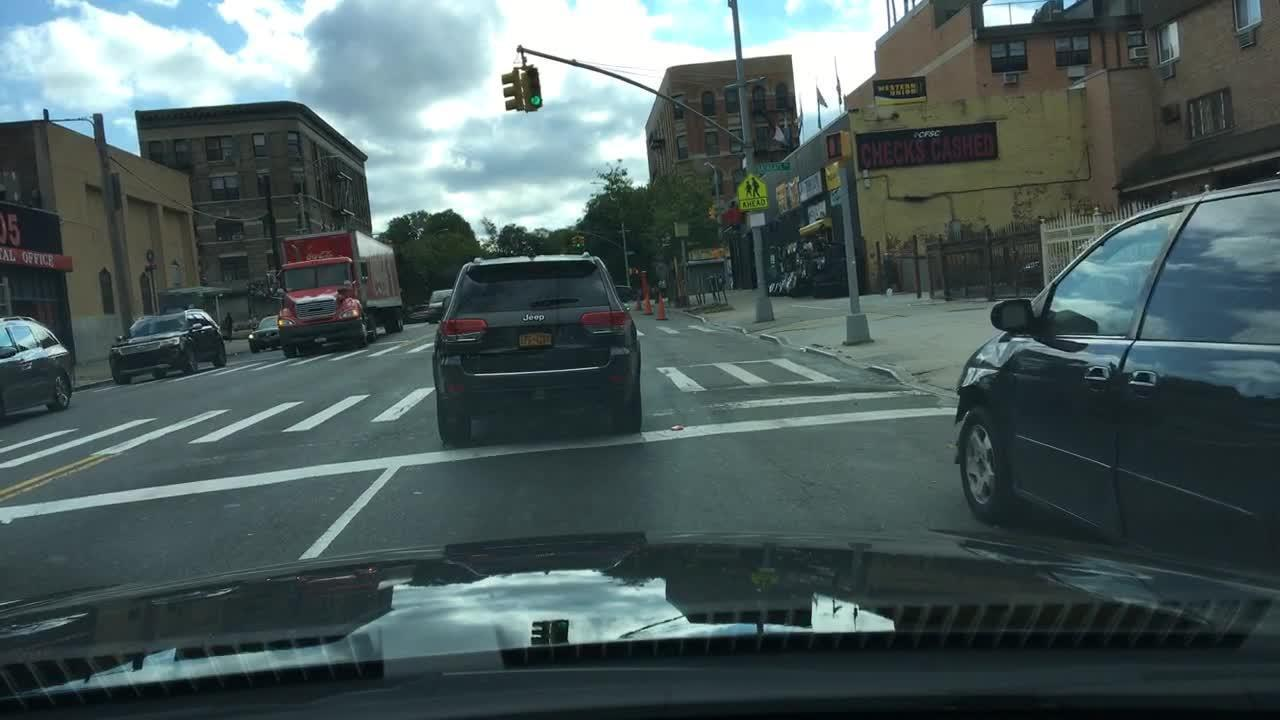jeep: (515, 306, 551, 325)
